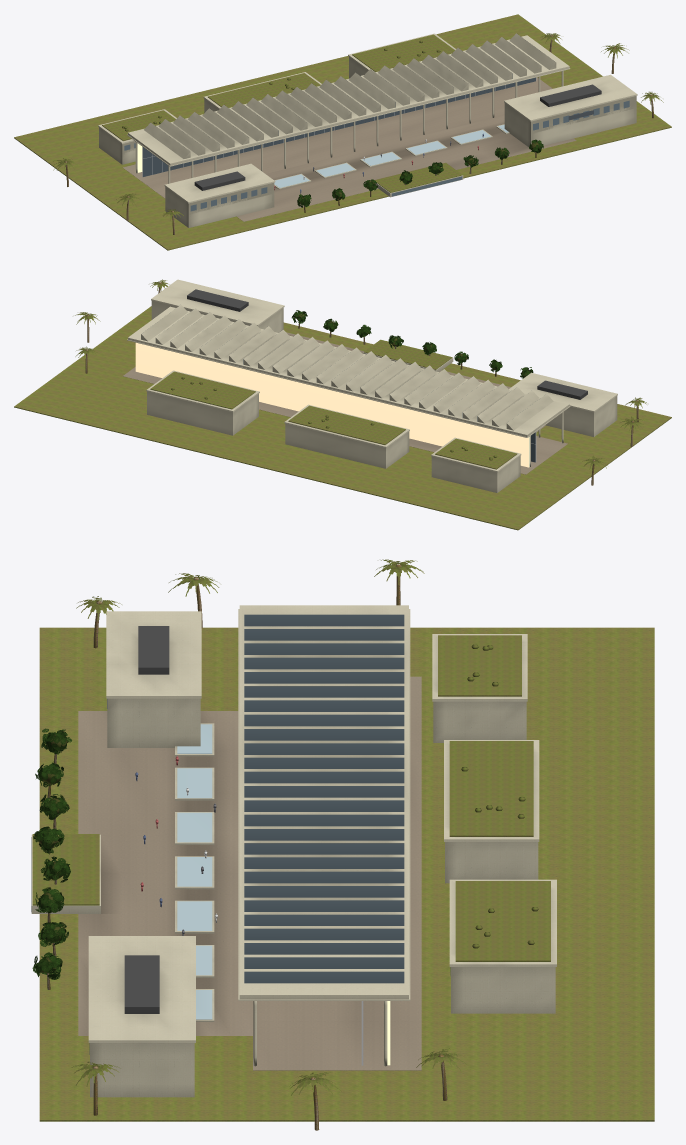
File: nova.gltf
The picture shows the model from 3 angles, top to bottom: view 1: azimuth 30°, elevation 25°; view 2: azimuth 150°, elevation 25°; view 3: azimuth 270°, elevation 25°; orthographic projection. The views are drawn at different scales.
Parts seen in each view (by area): view 1: nova-nova-white, nova-lawn, nova-plaza-stone, nova-green-roof, nova-curtain-glass, nova-floor-skylight, nova-wrought-iron, nova-tree-leaves, nova-palm-frond; view 2: nova-nova-white, nova-lawn, nova-warm-interior, nova-green-roof, nova-plaza-stone, nova-wrought-iron, nova-tree-leaves, nova-palm-frond; view 3: nova-lawn, nova-nova-white, nova-curtain-glass, nova-plaza-stone, nova-green-roof, nova-floor-skylight, nova-tree-leaves, nova-wrought-iron, nova-palm-frond, nova-palm-bark.
Boxes of the visible parts, <box> form: nova-nova-white: <box>98,33,637,227</box>; nova-lawn: <box>14,14,671,250</box>; nova-plaza-stone: <box>123,77,576,221</box>; nova-green-roof: <box>102,34,462,192</box>; nova-curtain-glass: <box>124,73,629,211</box>; nova-floor-skylight: <box>274,124,508,187</box>; nova-wrought-iron: <box>194,84,601,190</box>; nova-tree-leaves: <box>297,139,543,207</box>; nova-palm-frond: <box>53,33,663,221</box>; nova-nova-white: <box>127,279,617,492</box>; nova-lawn: <box>14,306,671,530</box>; nova-warm-interior: <box>135,342,529,467</box>; nova-green-roof: <box>150,339,517,469</box>; nova-plaza-stone: <box>123,332,567,474</box>; nova-wrought-iron: <box>187,289,587,399</box>; nova-tree-leaves: <box>291,310,533,378</box>; nova-palm-frond: <box>75,279,646,469</box>; nova-lawn: <box>39,627,654,1121</box>; nova-nova-white: <box>31,605,556,1097</box>; nova-curtain-glass: <box>31,614,450,1054</box>; nova-plaza-stone: <box>78,676,421,1070</box>; nova-green-roof: <box>32,635,550,961</box>; nova-floor-skylight: <box>177,724,212,1019</box>; nova-tree-leaves: <box>32,728,71,979</box>; nova-wrought-iron: <box>124,626,169,1013</box>; nova-palm-frond: <box>71,559,466,1095</box>; nova-palm-bark: <box>92,564,447,1130</box>.
Bounding box in the file's own units: 219 × 16.47 × 107.
20 materials, 10 textured.
